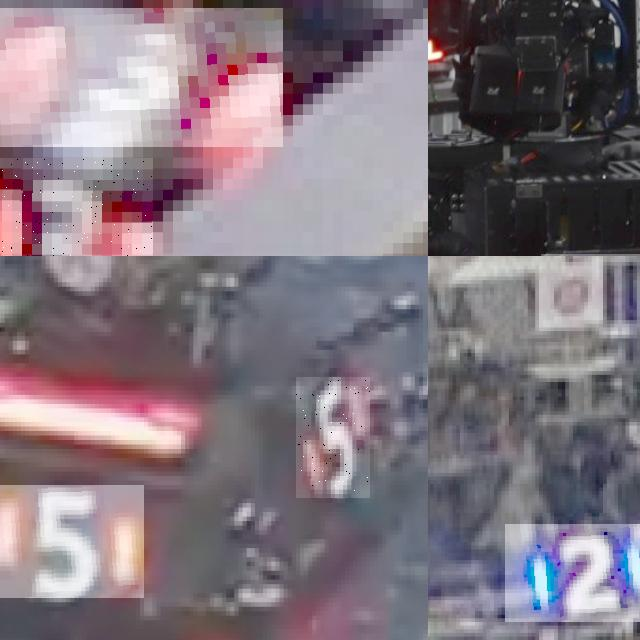B2: (505, 524, 640, 622)
R3: (0, 8, 283, 146), (0, 157, 153, 256)
R5: (0, 485, 144, 597), (296, 377, 370, 498)
